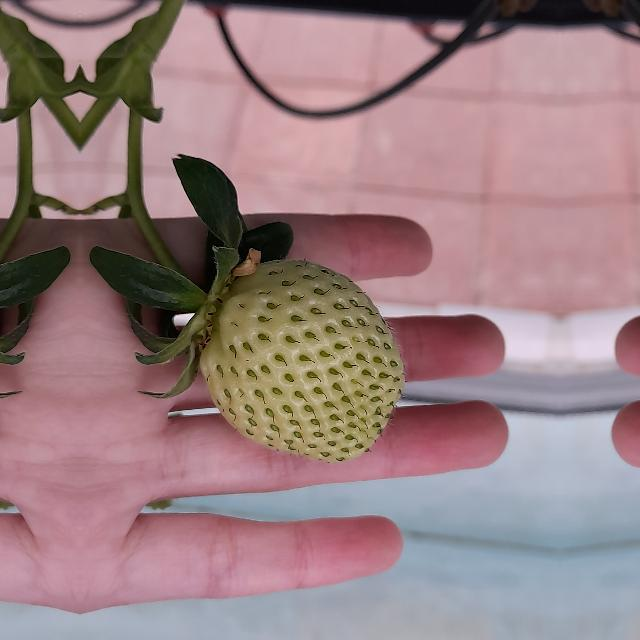Health_25: (199, 259, 405, 463)
